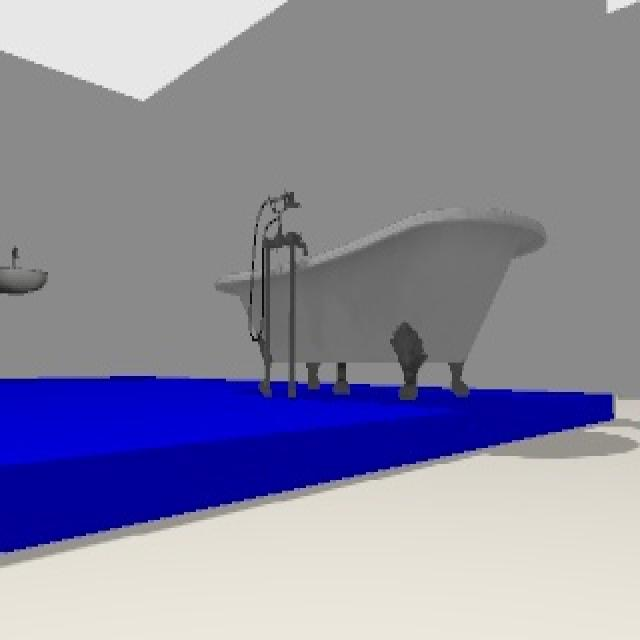bathtub: (213, 188, 542, 402)
